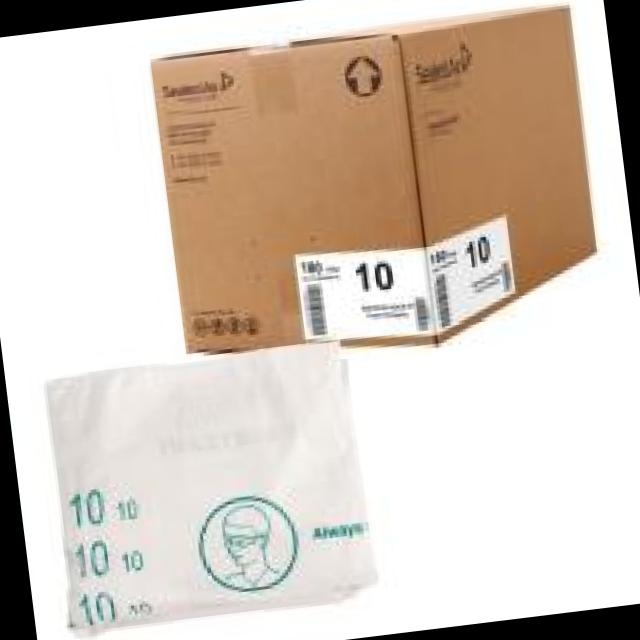box: (150, 4, 600, 357)
